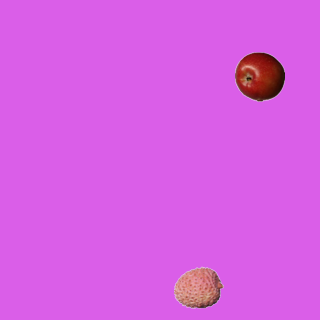Apple Braeburn: (234, 51, 284, 101)
Lychee: (173, 262, 223, 312)
